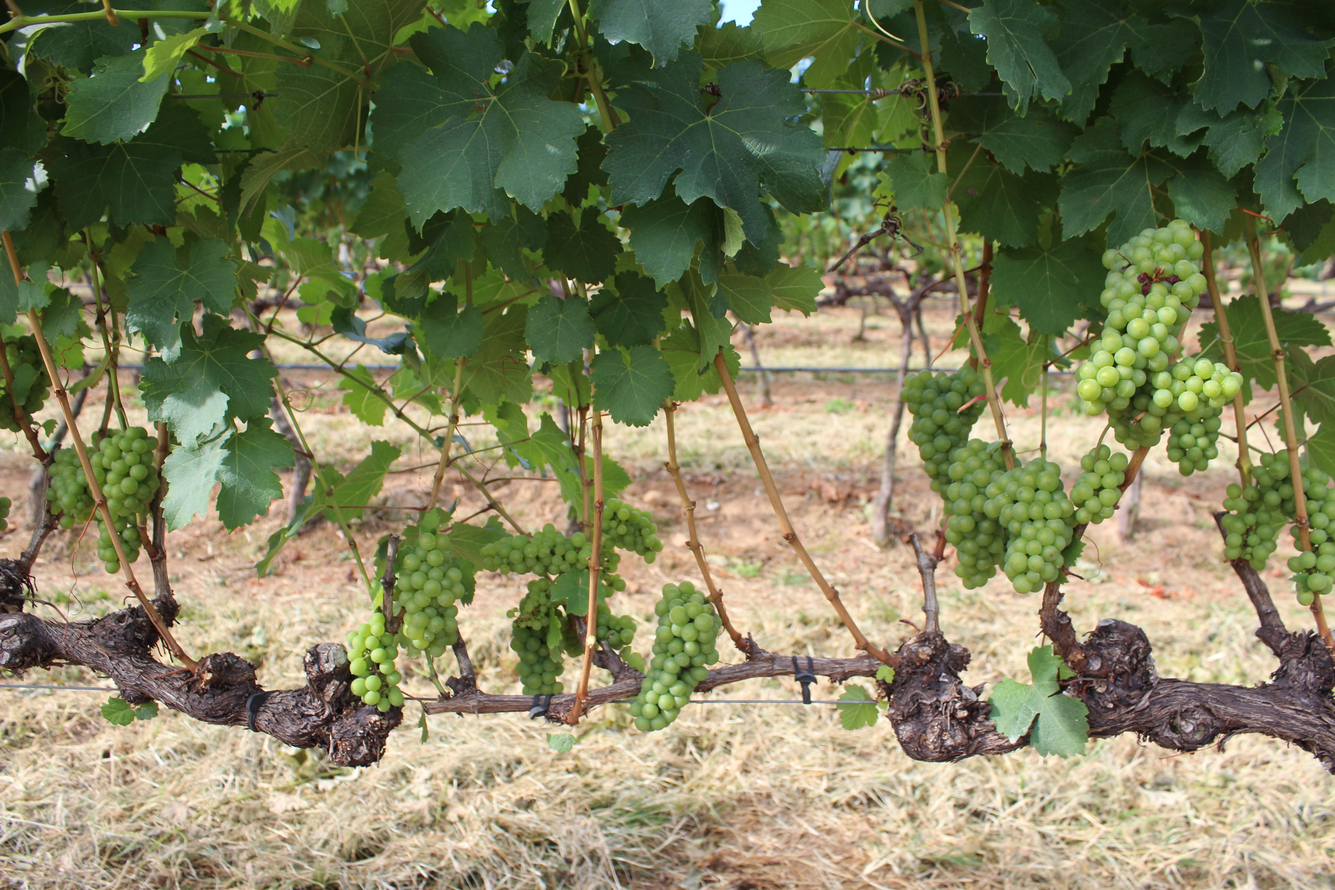leaf: (603, 53, 825, 243), (373, 26, 585, 224), (141, 313, 277, 444), (1194, 0, 1335, 113), (1058, 117, 1171, 244), (126, 237, 236, 362), (969, 0, 1071, 114), (991, 235, 1106, 336), (1255, 77, 1335, 219), (990, 646, 1088, 757), (61, 48, 169, 144), (619, 193, 725, 287), (751, 0, 863, 88), (949, 97, 1075, 174), (952, 159, 1057, 247), (216, 417, 295, 530), (588, 0, 713, 65), (311, 440, 401, 522), (162, 430, 233, 530), (463, 305, 532, 404), (590, 345, 674, 426), (544, 207, 621, 284), (589, 272, 667, 347), (1226, 294, 1276, 399), (525, 293, 596, 363), (417, 292, 484, 360), (878, 152, 949, 211), (0, 68, 47, 156), (0, 148, 46, 232), (338, 365, 389, 426), (1272, 308, 1331, 346), (836, 683, 879, 730), (1200, 321, 1223, 360), (668, 186, 671, 192), (849, 143, 858, 144), (1333, 66, 1335, 67), (1281, 214, 1282, 215), (192, 443, 193, 443)
